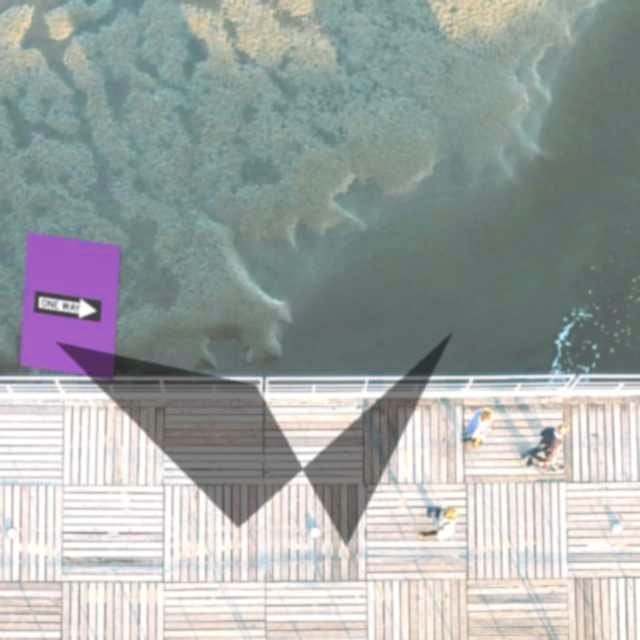ONE_WAY_ right: (34, 291, 102, 322)
